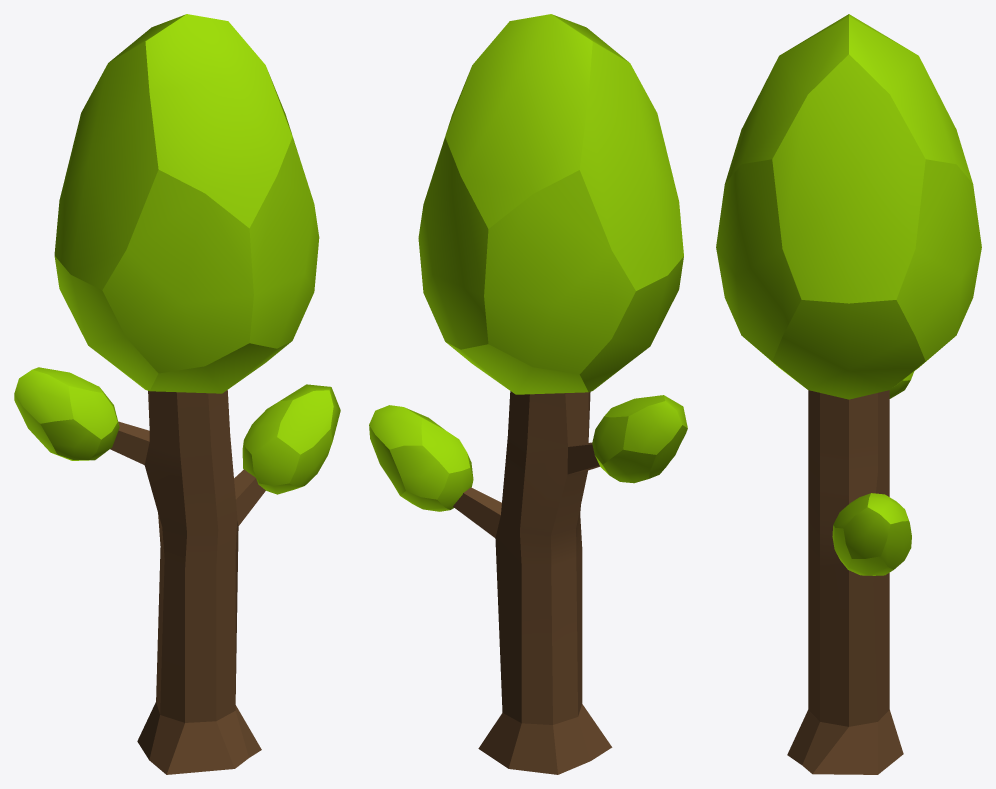
Rendered from tree03.fbx.
3 views of the same model, side by side, from view 1: azimuth 30°, elevation 25°; view 2: azimuth 150°, elevation 25°; view 3: azimuth 270°, elevation 25° (orthographic).
Visible parts, largest first — view 1: Tree, Stump; view 2: Tree, Stump; view 3: Tree, Stump.
Part boxes in pixels (x1,y1,x2,y2): Tree: [14, 14, 340, 722]; Stump: [137, 702, 261, 774]; Tree: [369, 14, 687, 724]; Stump: [478, 704, 612, 774]; Tree: [716, 14, 981, 726]; Stump: [787, 710, 903, 774].
Size of what is drawn, in the model's own units: 4.4 by 9.87 by 3.26.
